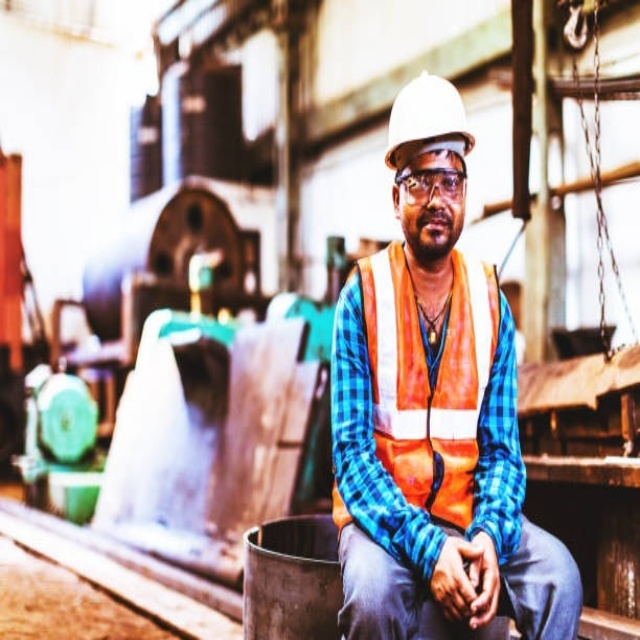Gafas: (397, 167, 469, 205)
Sin_guantes: (430, 534, 490, 628)
Sin_mascara: (417, 210, 452, 246)
